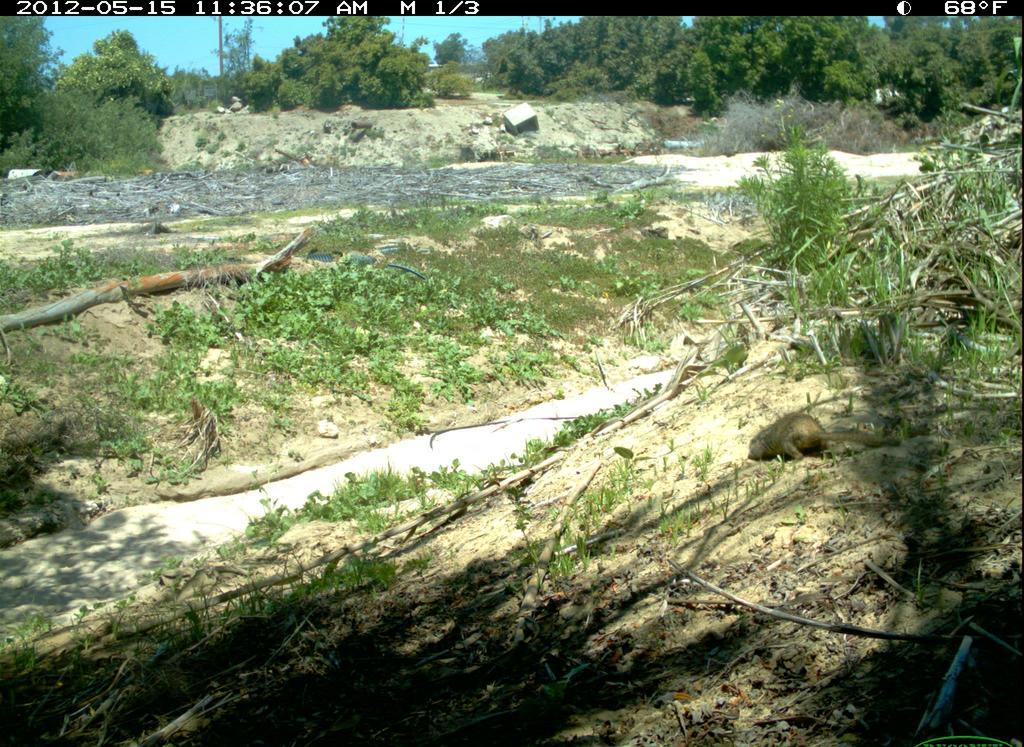squirrel: (740, 396, 909, 479)
